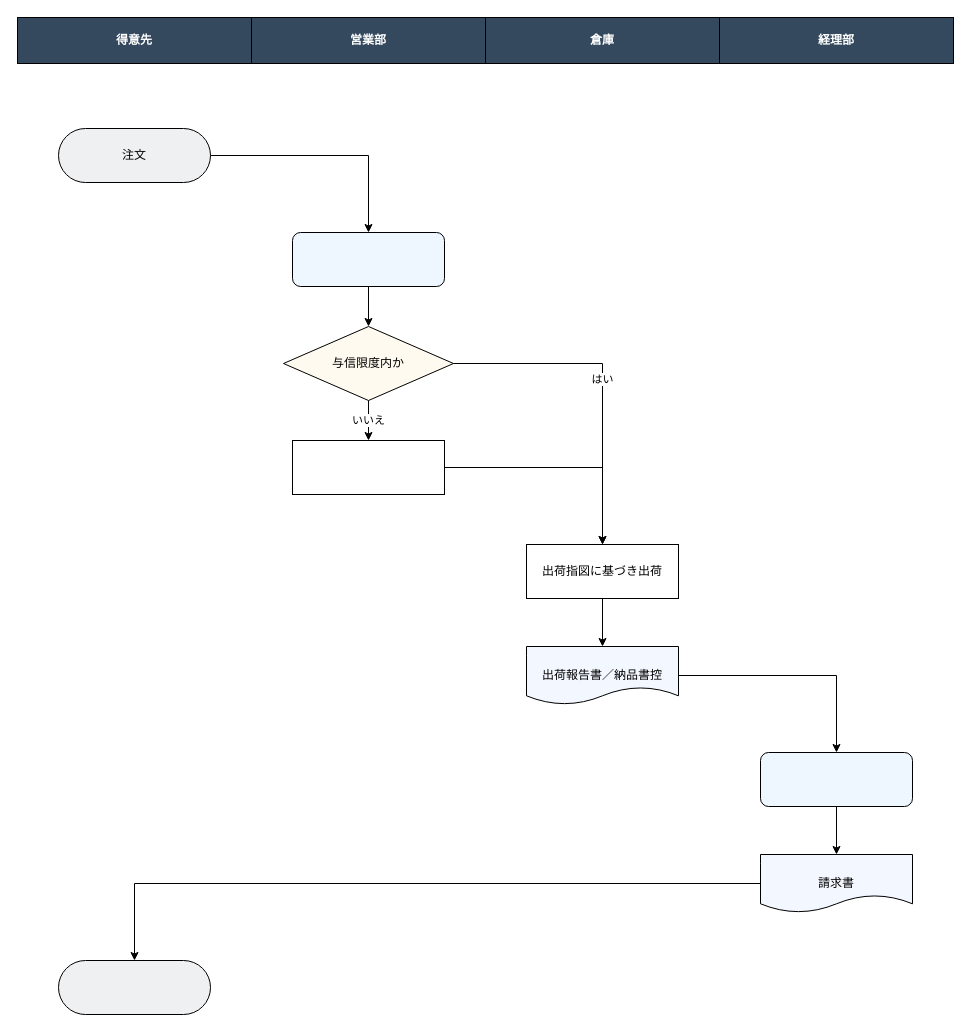
This 971x1032 diagram has some shape labels left out. The shapes that lost their labels are listed below. From the top down, each one's box as (x1, y1, x2, y2) in pixels, then its label:
(292, 232, 444, 286): 受注入力
(292, 440, 444, 494): 与信超過分を承認
(760, 752, 912, 806): 売上計上（三者照合）
(58, 960, 210, 1014): 商品・請求書受領
